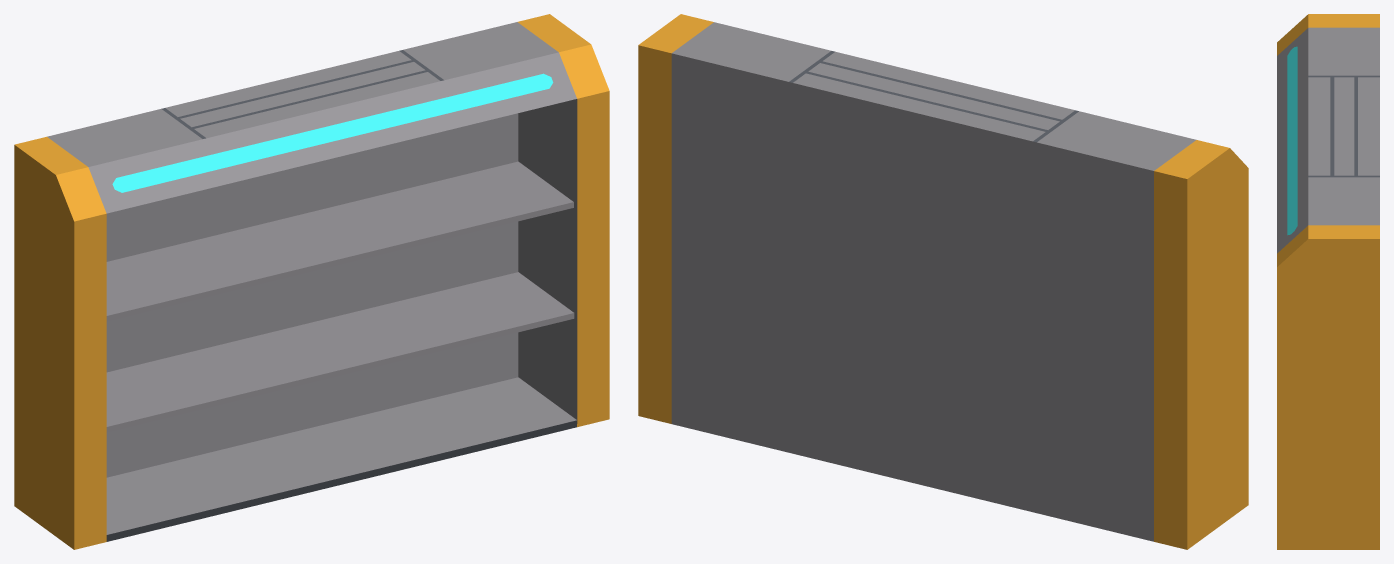
File: SM_Props_Agro_07.fbx
3 views of the same model, side by side, from view 1: azimuth 30°, elevation 25°; view 2: azimuth 150°, elevation 25°; view 3: azimuth 270°, elevation 25° (orthographic). The views are drawn at different scales.
Visible parts, largest first — view 1: SM_Props_Agro_07; view 2: SM_Props_Agro_07; view 3: SM_Props_Agro_07.
Boxes of the visible parts, x1,y1,x2,y2 form: SM_Props_Agro_07: [14, 14, 609, 549]; SM_Props_Agro_07: [638, 14, 1248, 549]; SM_Props_Agro_07: [1277, 14, 1379, 549].
Bounding box in the file's own units: 3.1 × 2 × 0.6.
